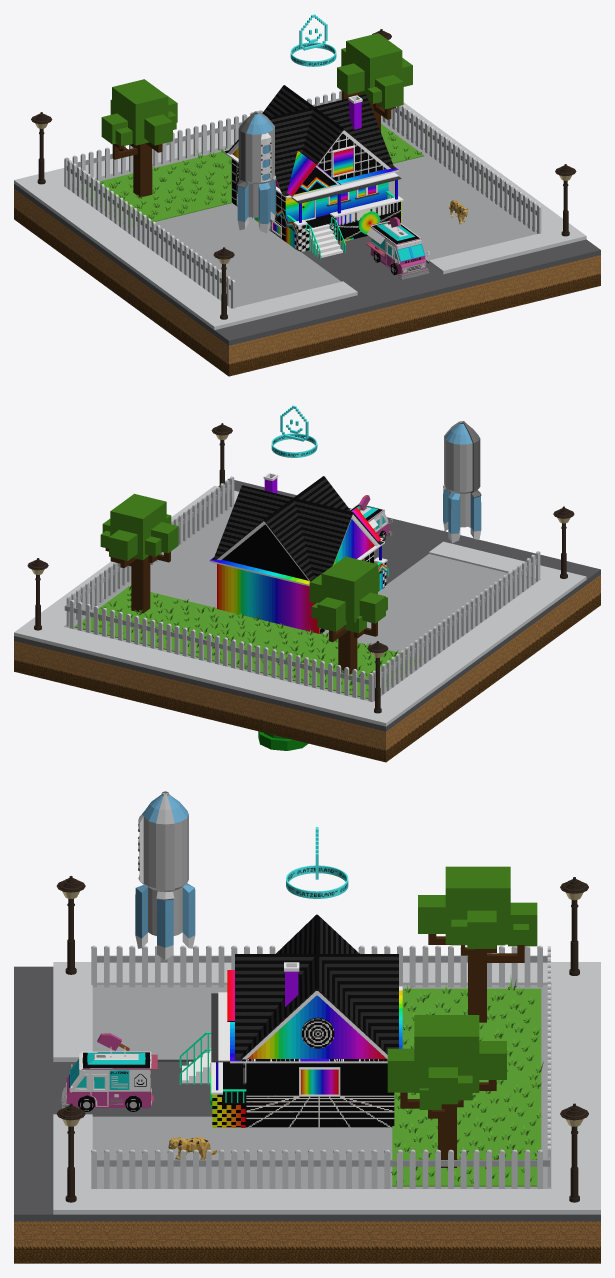
3 views of the same model, one above another, from view 1: azimuth 30°, elevation 25°; view 2: azimuth 150°, elevation 25°; view 3: azimuth 270°, elevation 25° (orthographic). The views are drawn at different scales.
Visible parts, largest first — view 1: Cube.004, Cube.1320, OBJRANDOM_ROCKETSHIP, VEHICLES_ICE_CREAM_TRUCK, TYPE_PREMIUM; view 2: Cube.004, Cube.1320, OBJRANDOM_ROCKETSHIP, TYPE_PREMIUM, VEHICLES_ICE_CREAM_TRUCK, UNDERGROUND_PIPES; view 3: Cube.004, Cube.1320, OBJRANDOM_ROCKETSHIP, VEHICLES_ICE_CREAM_TRUCK, TYPE_PREMIUM, ANIMAL_JAGUAR.
Boxes of the visible parts, x1,y1,x2,y2 form: Cube.004: (14, 29, 600, 376); Cube.1320: (223, 85, 403, 258); OBJRANDOM_ROCKETSHIP: (237, 111, 275, 233); VEHICLES_ICE_CREAM_TRUCK: (366, 217, 429, 279); TYPE_PREMIUM: (290, 14, 336, 66); Cube.004: (14, 423, 600, 762); Cube.1320: (209, 472, 388, 633); OBJRANDOM_ROCKETSHIP: (443, 421, 481, 543); TYPE_PREMIUM: (271, 405, 317, 457); VEHICLES_ICE_CREAM_TRUCK: (350, 495, 392, 541); UNDERGROUND_PIPES: (258, 731, 308, 750); Cube.004: (14, 866, 600, 1263); Cube.1320: (179, 914, 402, 1127); OBJRANDOM_ROCKETSHIP: (135, 791, 195, 960); VEHICLES_ICE_CREAM_TRUCK: (61, 1033, 157, 1111); TYPE_PREMIUM: (286, 827, 348, 898); ANIMAL_JAGUAR: (168, 1137, 216, 1159).
Size of the model in its own units: 4000 by 3050 by 4000.
Materials: 43 (6 with a texture image).
